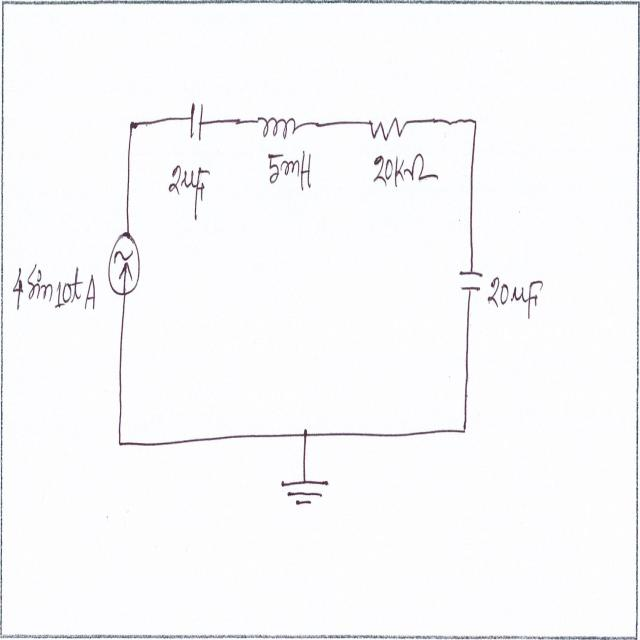capacitor: (184, 96, 207, 149), (458, 260, 484, 300)
current_source: (104, 227, 146, 301)
ground: (280, 474, 333, 511)
inductor: (256, 112, 304, 147)
resistor: (369, 114, 408, 144)
